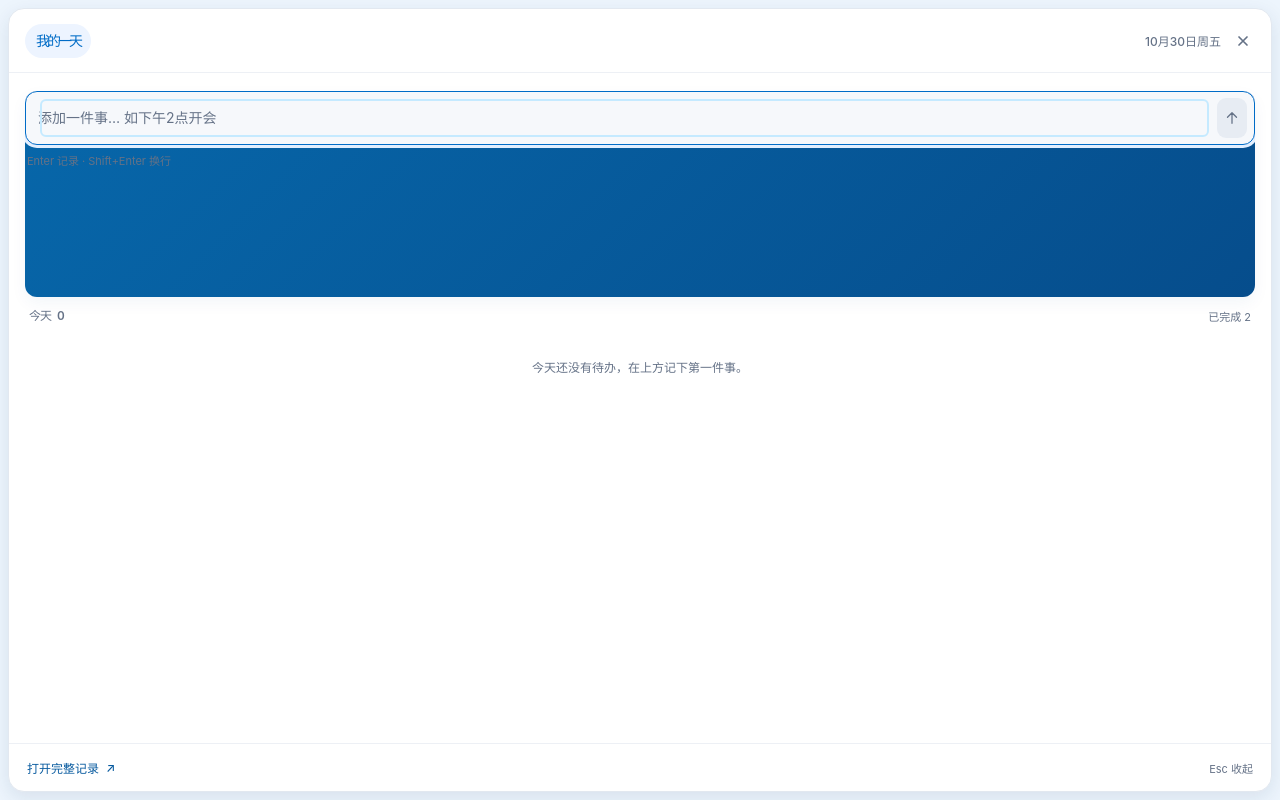
TodayPanelApp › keeps candidates after a conflict and completes only the selected one
Type "整理方案已完成" into the text box at (624, 118), box [38, 97, 1211, 139]
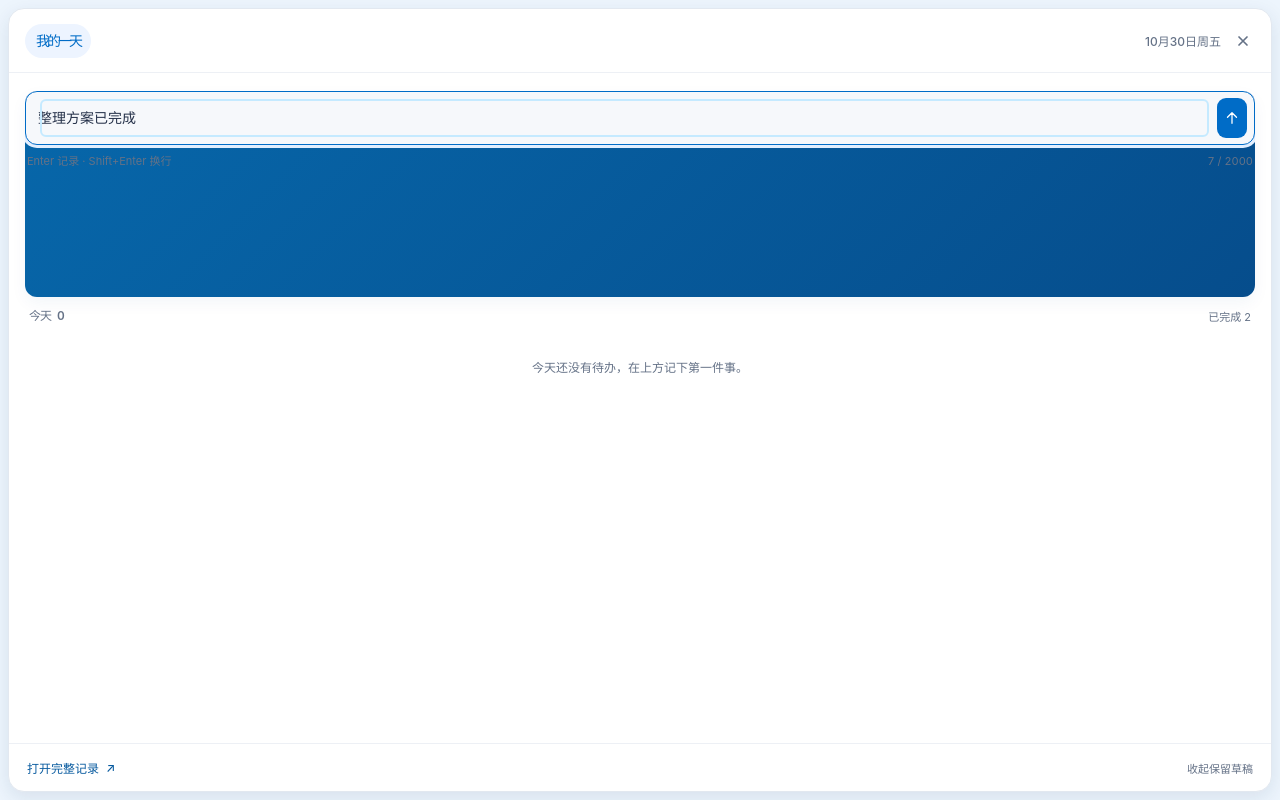
Click the button named "记录" at (1232, 118), box [1217, 98, 1247, 138]
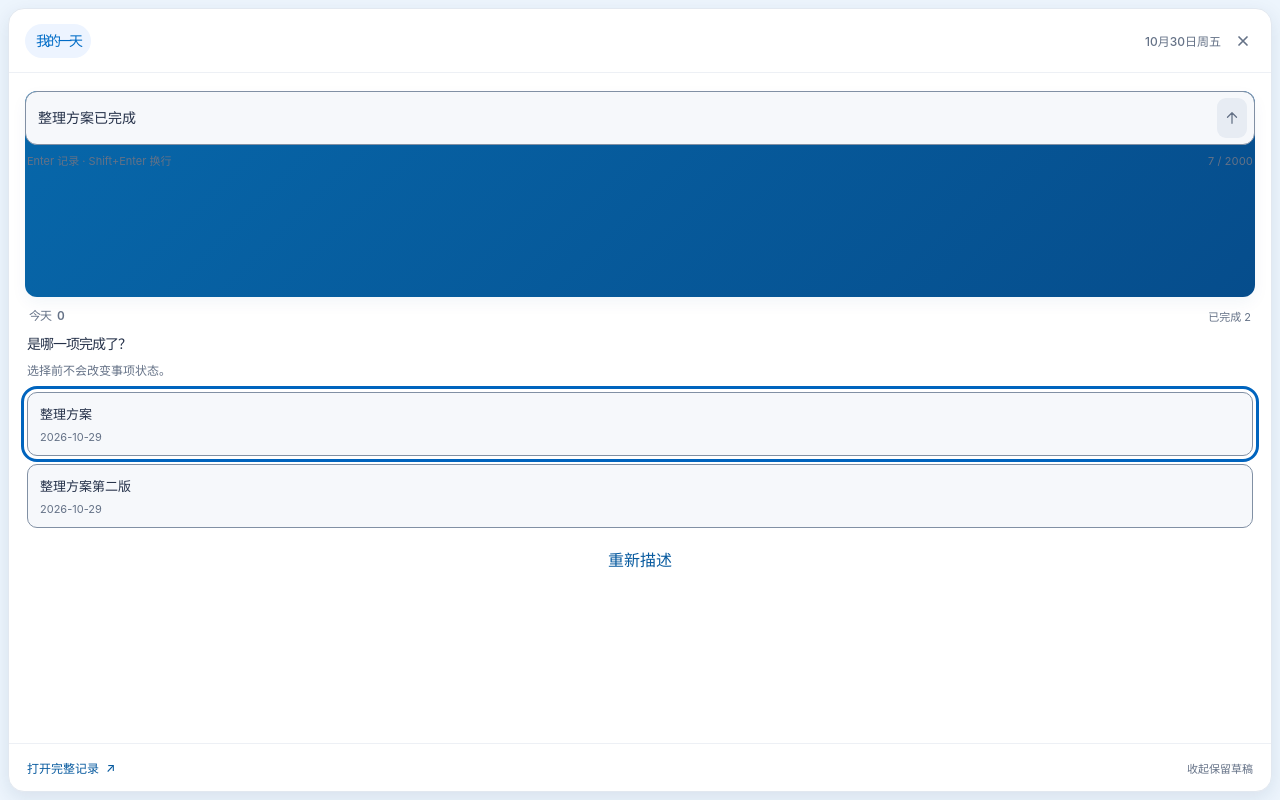
Check: the heading "是哪一项完成了？" is shown, box [27, 335, 131, 352]
Click the button "整理方案 2026-10-29" at (66, 414), box [27, 392, 1253, 456]
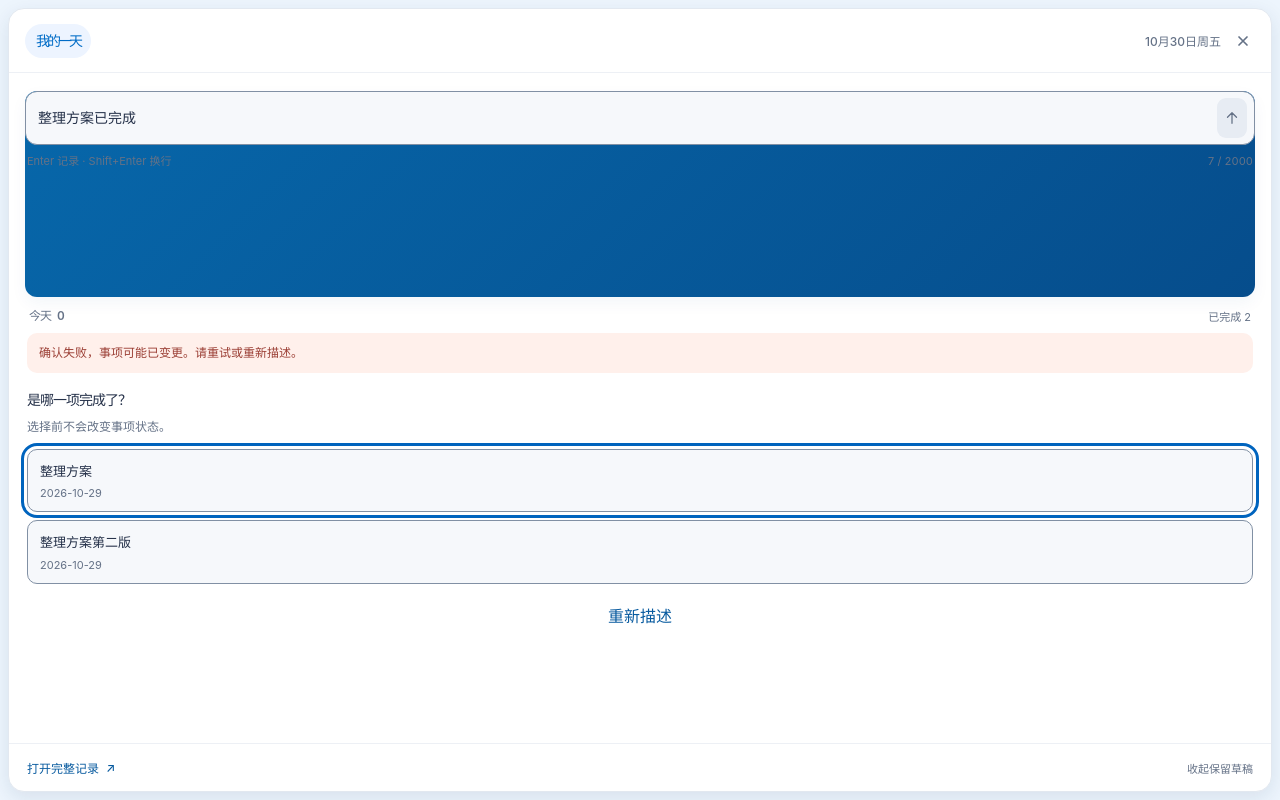
Check: the button "整理方案 2026-10-29" is shown
Check: the message shows "事项可能已变更", box [39, 345, 303, 360]
Click the button "整理方案 2026-10-29" at (66, 471), box [27, 449, 1253, 512]
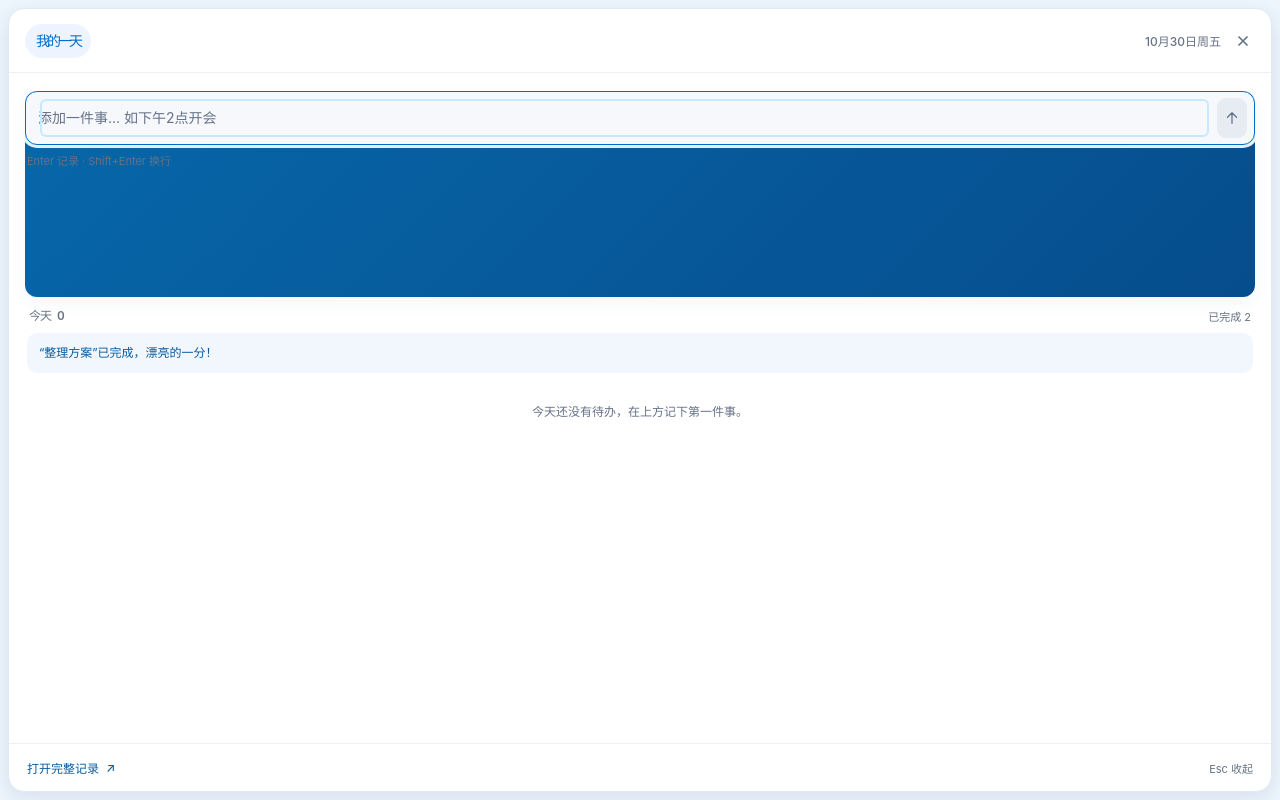
Check: the text "“整理方案”已完成，漂亮的一分！" is shown, box [27, 333, 1253, 373]
Check: the heading "是哪一项完成了？" is gone
